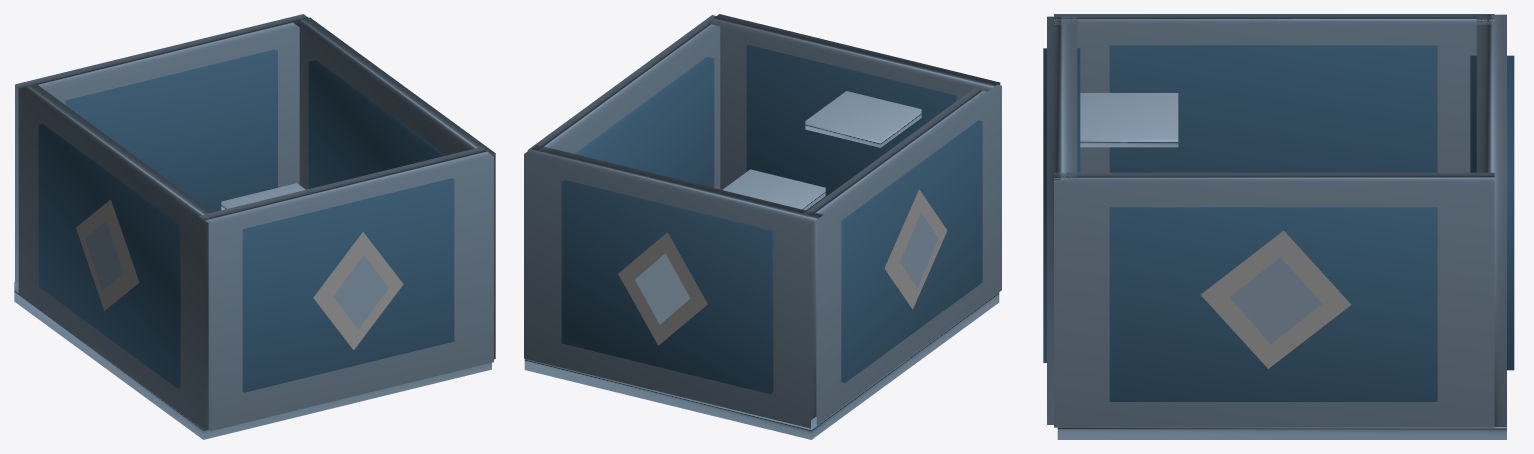
Rendered from caja4.fbx.
3 renders of one model, left to right at view 1: azimuth 30°, elevation 25°; view 2: azimuth 150°, elevation 25°; view 3: azimuth 270°, elevation 25°, orthographic. The views are drawn at different scales.
Parts seen in each view (by area): view 1: polySurface78; view 2: polySurface78; view 3: polySurface78.
Part boxes in pixels (<box>): polySurface78: <box>14,14,495,439</box>; polySurface78: <box>524,14,1001,439</box>; polySurface78: <box>1043,14,1514,439</box>.
Bounding box in the file's own units: 19.11 × 13.01 × 22.38.
